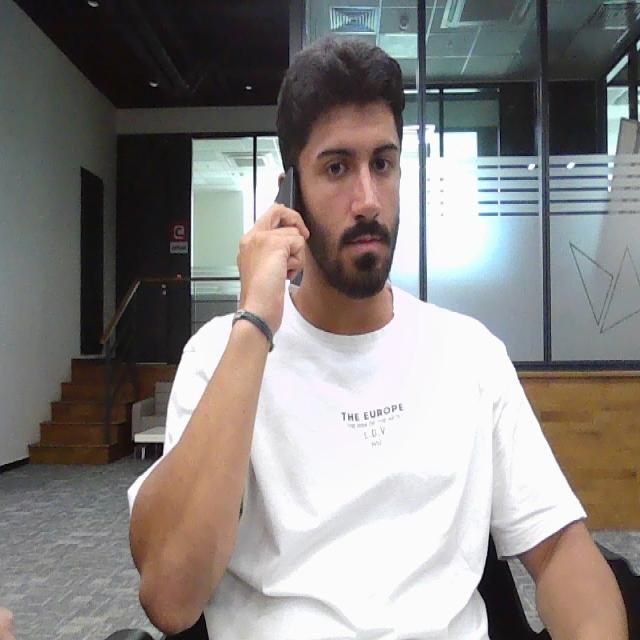phone: (269, 166, 300, 255)
